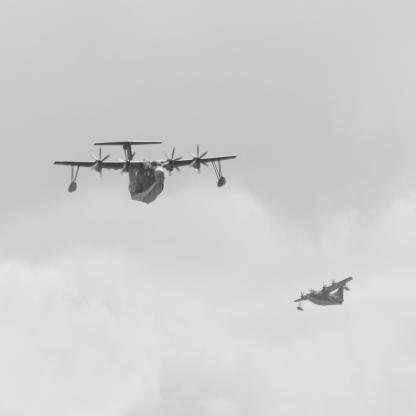US2: (54, 141, 237, 205), (294, 277, 354, 311)
